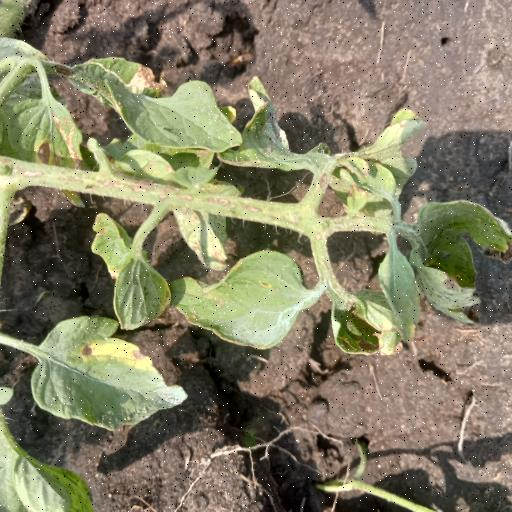Tomato_Brown_Spots: (30, 312, 191, 434), (74, 55, 246, 158), (411, 192, 512, 327), (180, 252, 322, 348)
